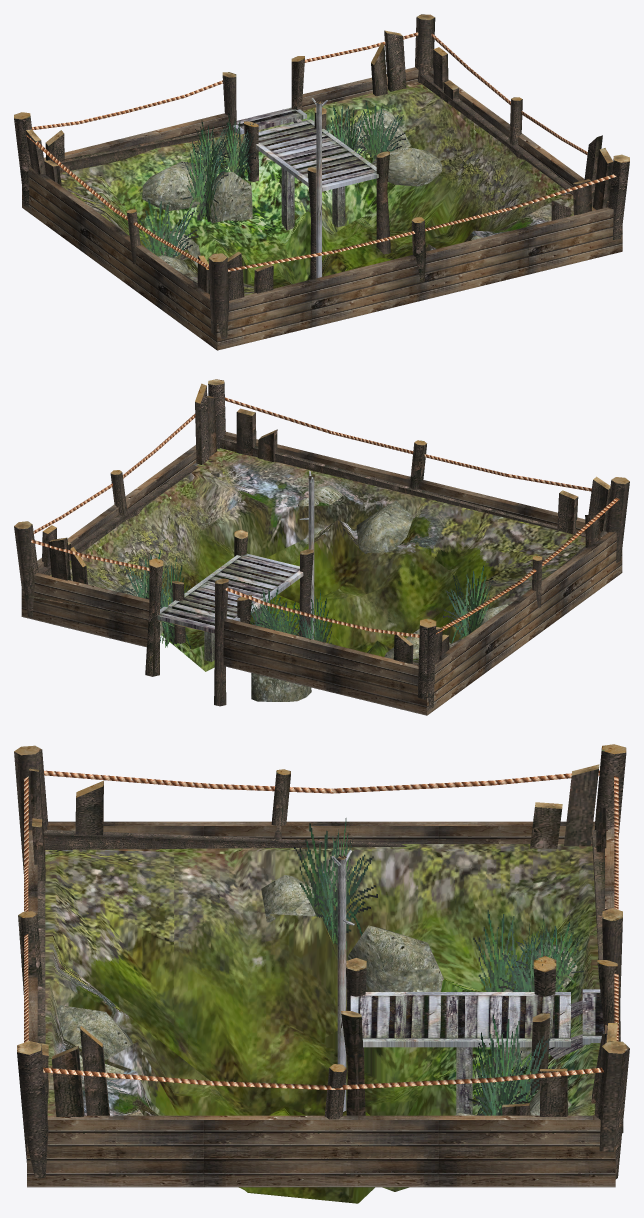
The model's file is building_fishpond.glb.
3 views of the same model, one above another, from view 1: azimuth 30°, elevation 25°; view 2: azimuth 150°, elevation 25°; view 3: azimuth 270°, elevation 25° (orthographic). The views are drawn at different scales.
Visible parts, largest first — view 1: building_fishpond; view 2: building_fishpond; view 3: building_fishpond.
Boxes of the visible parts, x1,y1,x2,y2 form: building_fishpond: (14, 14, 629, 350); building_fishpond: (14, 379, 629, 715); building_fishpond: (14, 744, 629, 1203).
Size of the model in its own units: 12.8 by 5.9 by 10.73.
9 materials, 9 textured.
